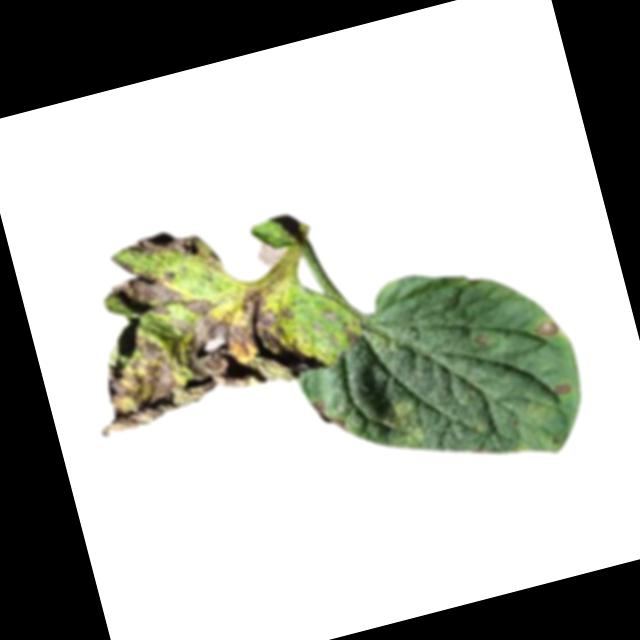Early_blight: (62, 222, 329, 439), (122, 214, 224, 292), (312, 396, 350, 440), (533, 316, 564, 342), (341, 321, 362, 349), (553, 381, 573, 397)
